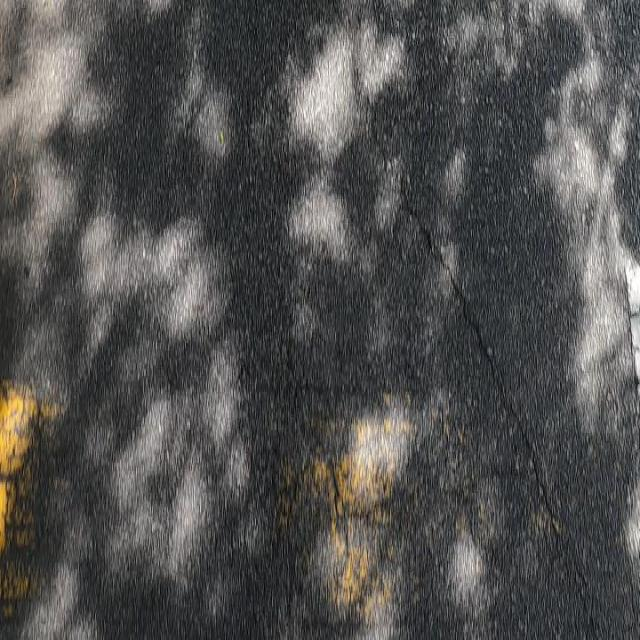cracks: (324, 8, 618, 640)
